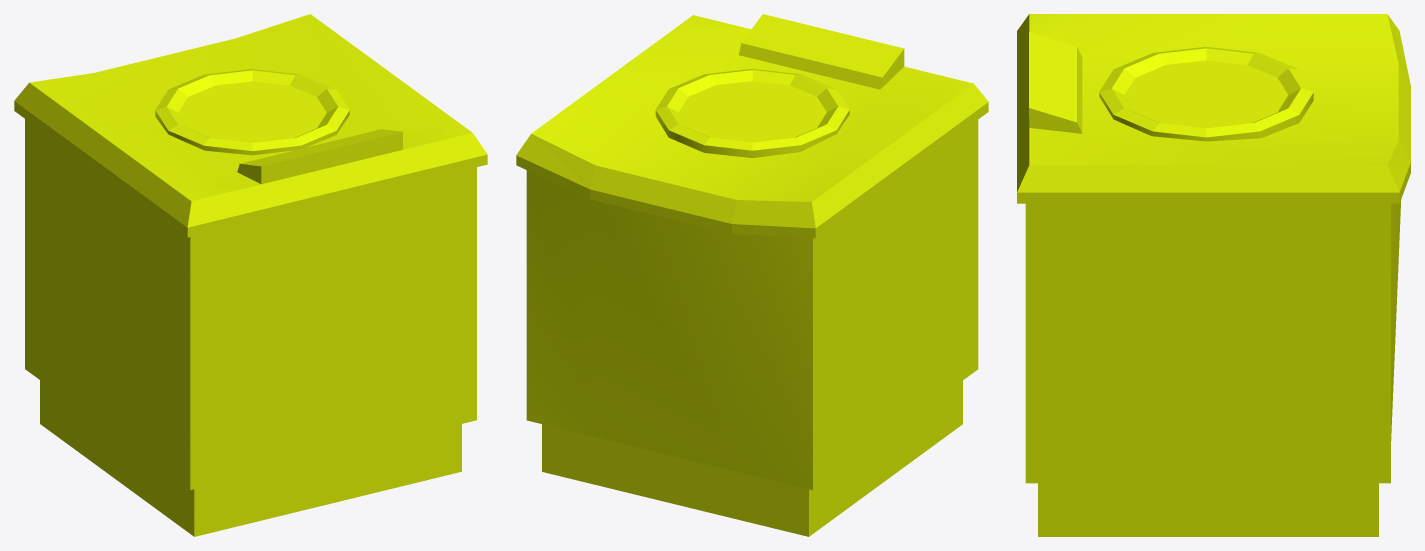
File: WashingMachine2.FBX
3 views of the same model, side by side, from view 1: azimuth 30°, elevation 25°; view 2: azimuth 150°, elevation 25°; view 3: azimuth 270°, elevation 25° (orthographic). The views are drawn at different scales.
Visible parts, largest first — view 1: Cylinder005; view 2: Cylinder005; view 3: Cylinder005.
Boxes of the visible parts, box(x1,y1,x2,y2) form: Cylinder005: box(14, 14, 487, 536); Cylinder005: box(516, 14, 988, 536); Cylinder005: box(1017, 14, 1410, 536).
Size of the model in its own units: 1.41 by 1.61 by 1.45.
